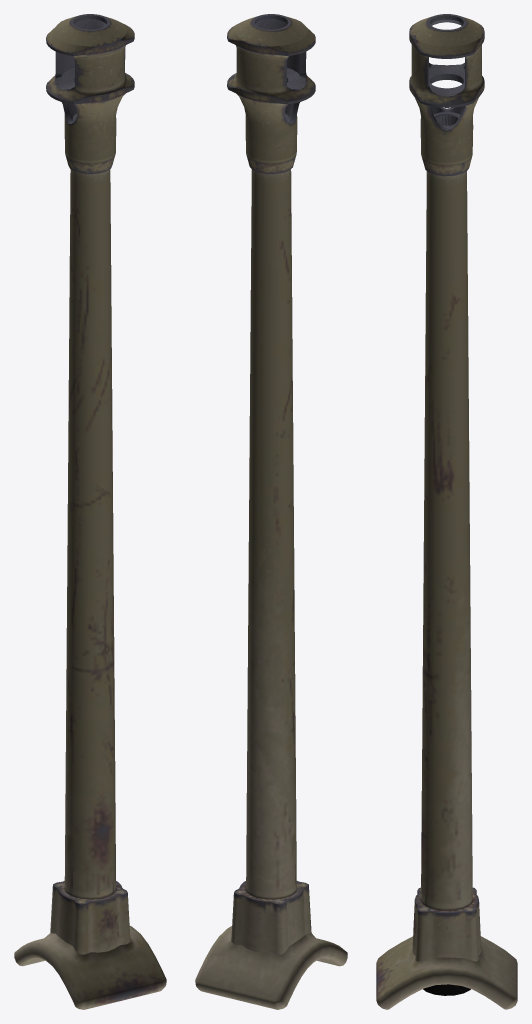
The model's file is Gun_04.glb.
The picture shows the model from 3 angles, left to right: view 1: azimuth 30°, elevation 25°; view 2: azimuth 150°, elevation 25°; view 3: azimuth 270°, elevation 25°; orthographic projection.
Parts seen in each view (by area): view 1: set_0_group_0; view 2: set_0_group_0; view 3: set_0_group_0.
Boxes of the visible parts, box(x1,y1,x2,y2) form: set_0_group_0: box(14, 14, 166, 1009); set_0_group_0: box(195, 14, 347, 1009); set_0_group_0: box(376, 14, 517, 1009).
Size of the model in its own units: 0.3119 by 3.17 by 0.4203.
1 material, 1 textured.
